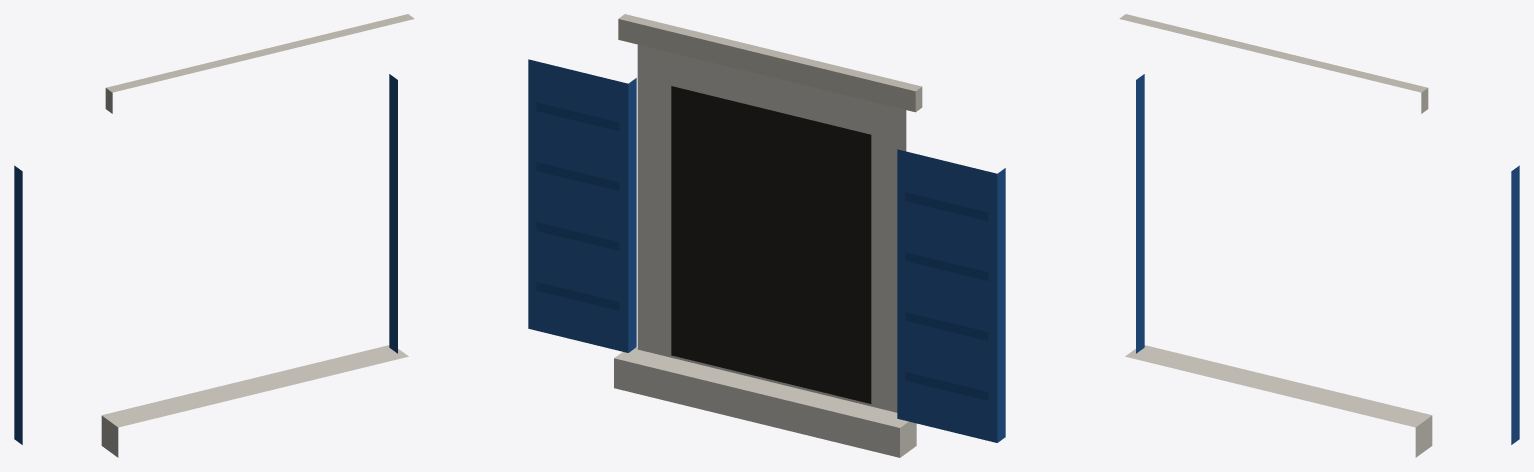
File: window_shutter_blue.glb
3 renders of one model, left to right at view 1: azimuth 30°, elevation 25°; view 2: azimuth 150°, elevation 25°; view 3: azimuth 330°, elevation 25°, orthographic.
Visible parts, largest first — view 1: window_shutter_blue; view 2: window_shutter_blue; view 3: window_shutter_blue.
Part boxes in pixels (<box>): window_shutter_blue: <box>14,14,414,457</box>; window_shutter_blue: <box>528,14,1005,457</box>; window_shutter_blue: <box>1119,14,1519,457</box>.
Size of the model in its own units: 1.64 by 1.21 by 0.1.
